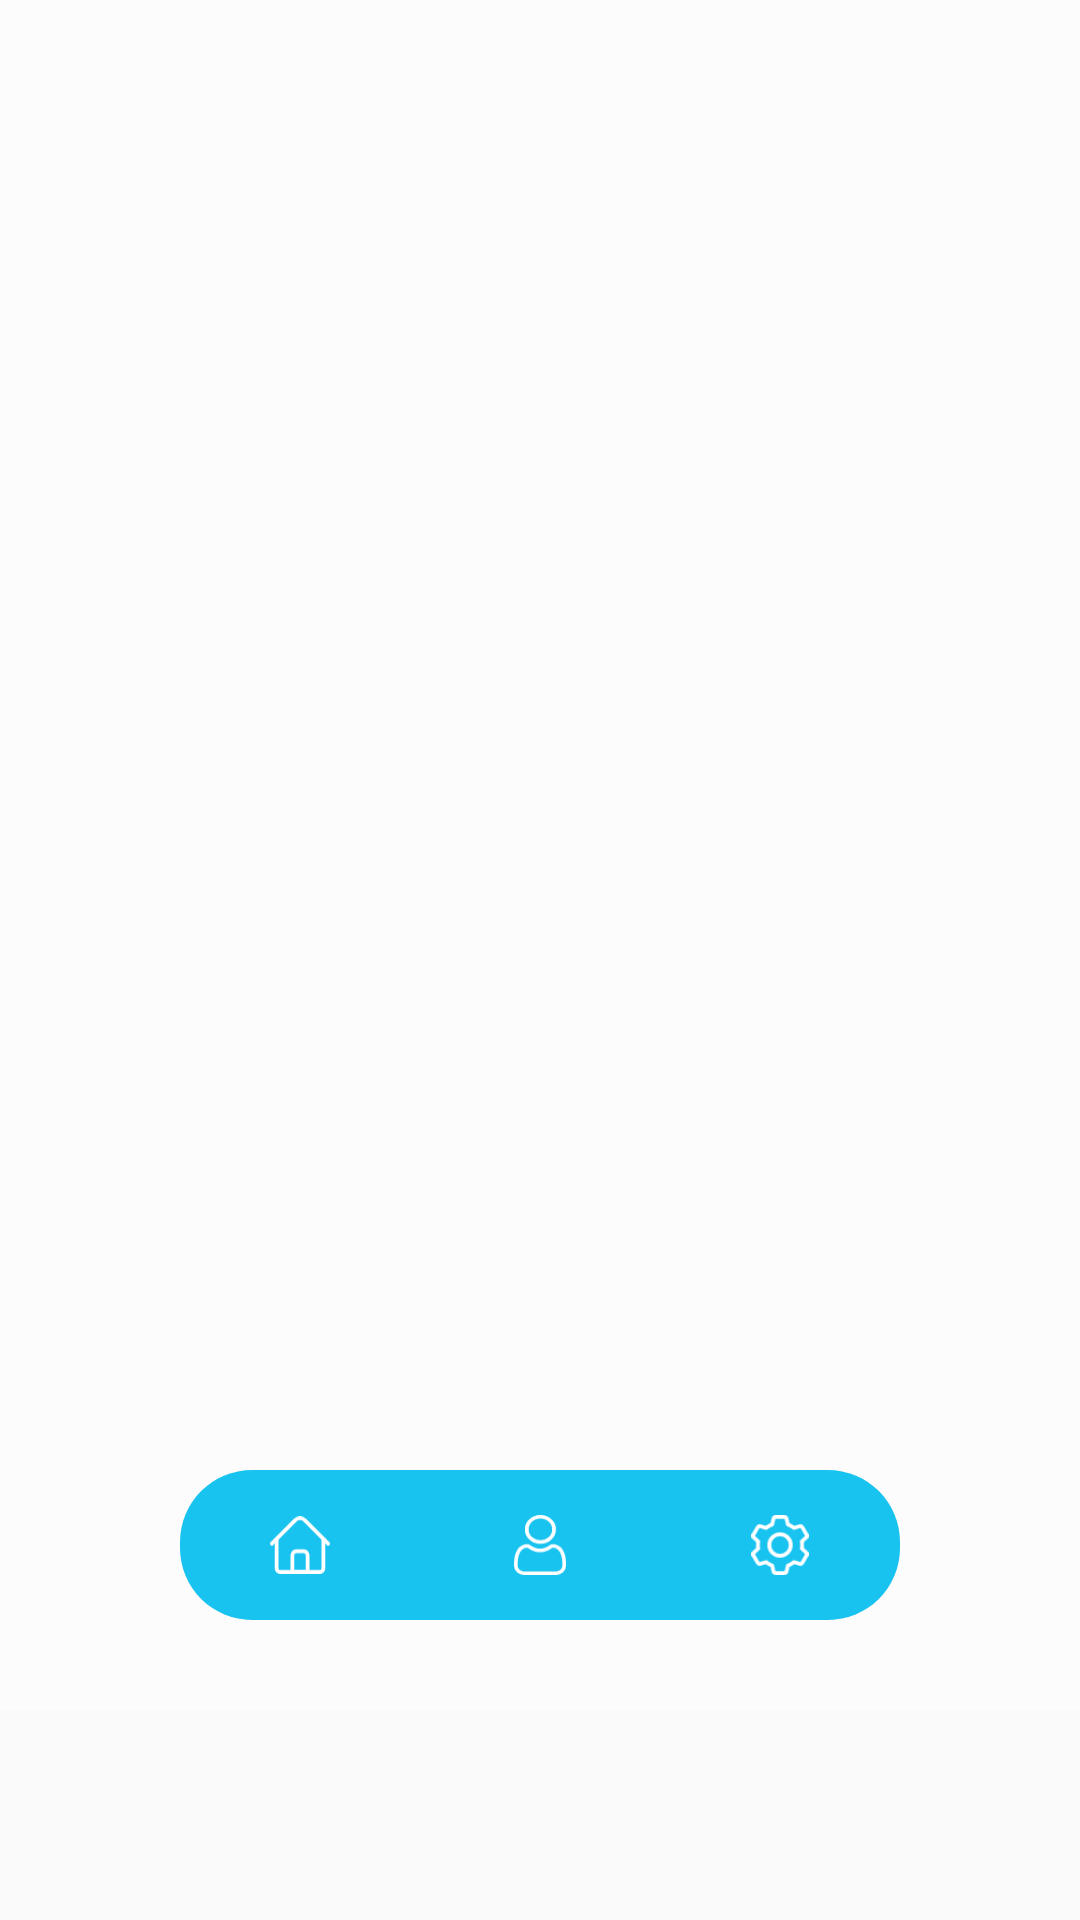

Named icons in this screenshot (1080w x 1920h) and their bounding boxes, BBox(x1, y1, x2, y2):
home: BBox(270, 1516, 330, 1574)
settings: BBox(751, 1515, 809, 1575)
user: BBox(514, 1515, 566, 1575)
